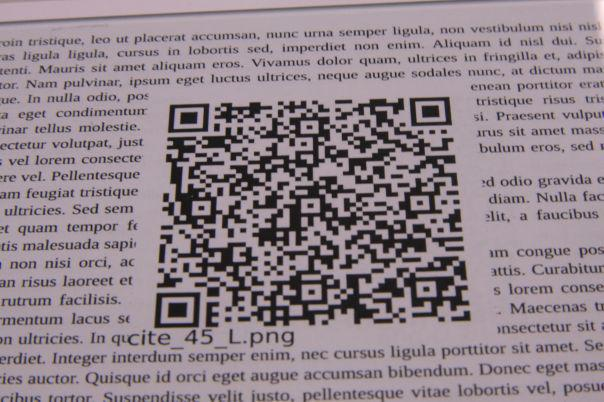Finder pattern: (151, 289, 204, 334), (407, 93, 455, 131), (166, 101, 214, 135)
